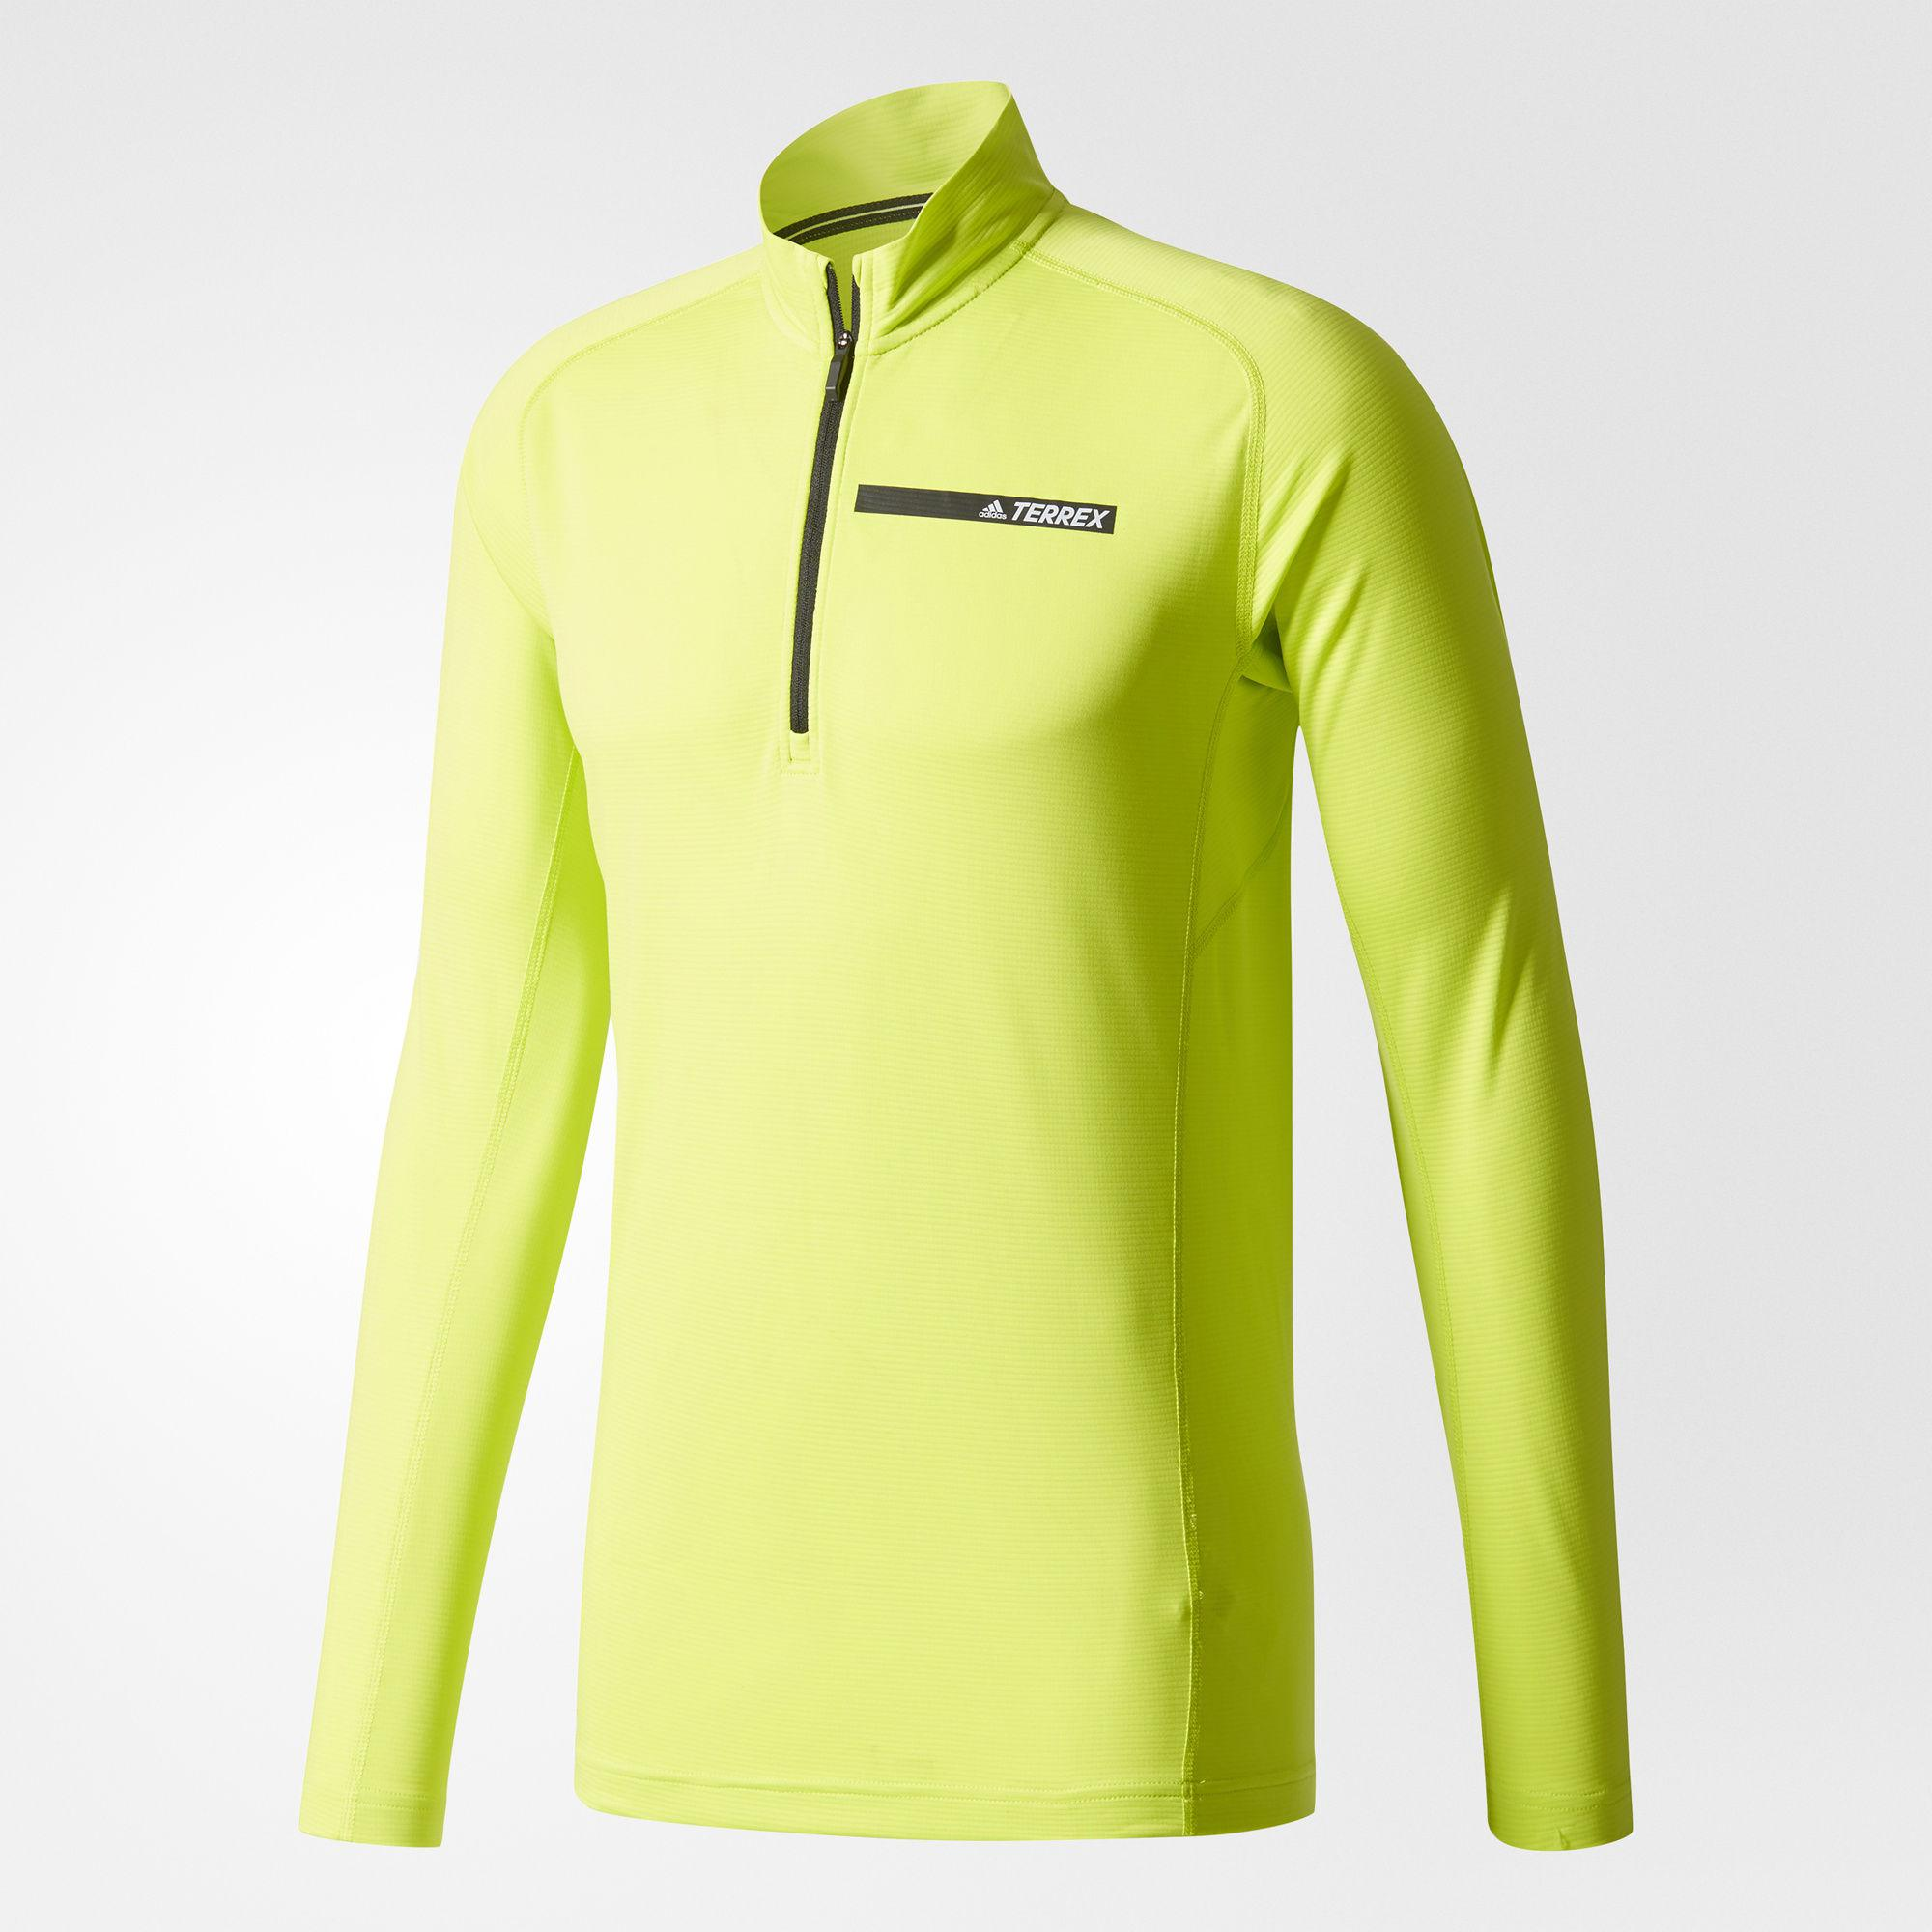teeshirt: (226, 81, 1654, 1884)
